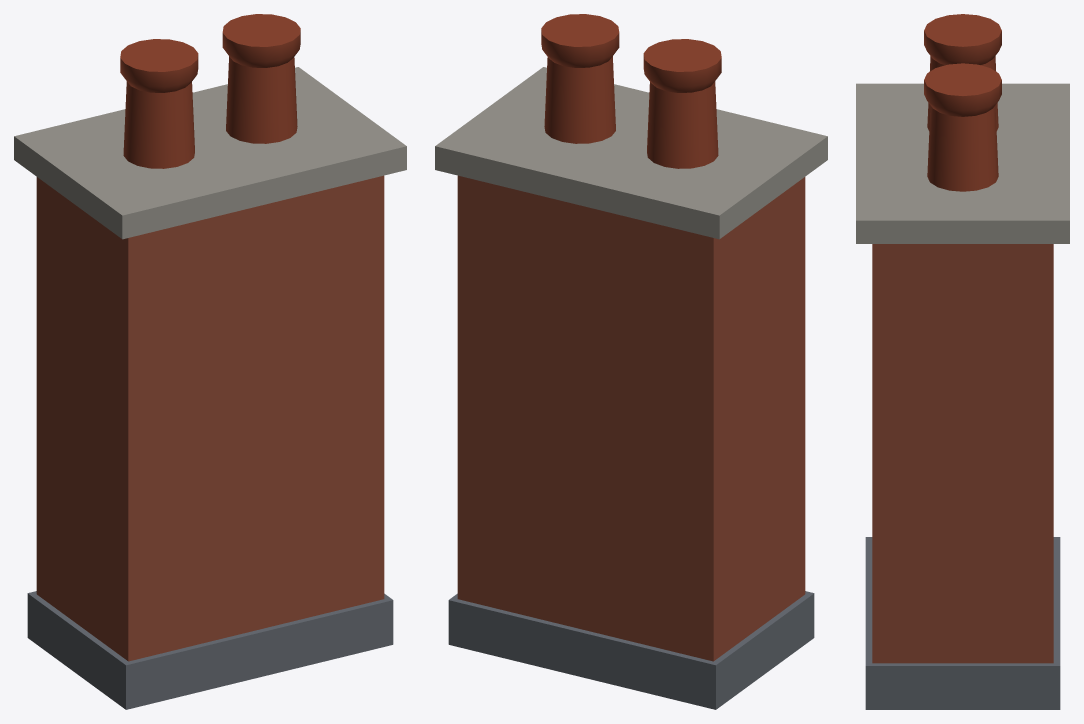
File: roof.chimney.double.glb
3 views of the same model, side by side, from view 1: azimuth 30°, elevation 25°; view 2: azimuth 150°, elevation 25°; view 3: azimuth 270°, elevation 25° (orthographic).
Parts seen in each view (by area): view 1: main__brick, main__concrete, main__lead, main__clay_tile; view 2: main__brick, main__concrete, main__lead, main__clay_tile; view 3: main__brick, main__concrete, main__clay_tile, main__lead.
Part boxes in pixels (bbox=[...]): main__brick: bbox=[36, 175, 384, 661]; main__concrete: bbox=[14, 67, 406, 239]; main__lead: bbox=[27, 591, 393, 709]; main__clay_tile: bbox=[120, 14, 300, 168]; main__brick: bbox=[457, 175, 805, 661]; main__concrete: bbox=[435, 67, 827, 239]; main__lead: bbox=[448, 591, 814, 709]; main__clay_tile: bbox=[541, 14, 721, 168]; main__brick: bbox=[872, 244, 1053, 663]; main__concrete: bbox=[856, 83, 1069, 243]; main__clay_tile: bbox=[924, 14, 1001, 191]; main__lead: bbox=[865, 537, 1060, 709].
Size of the model in its own units: 1 by 2.01 by 0.66.
